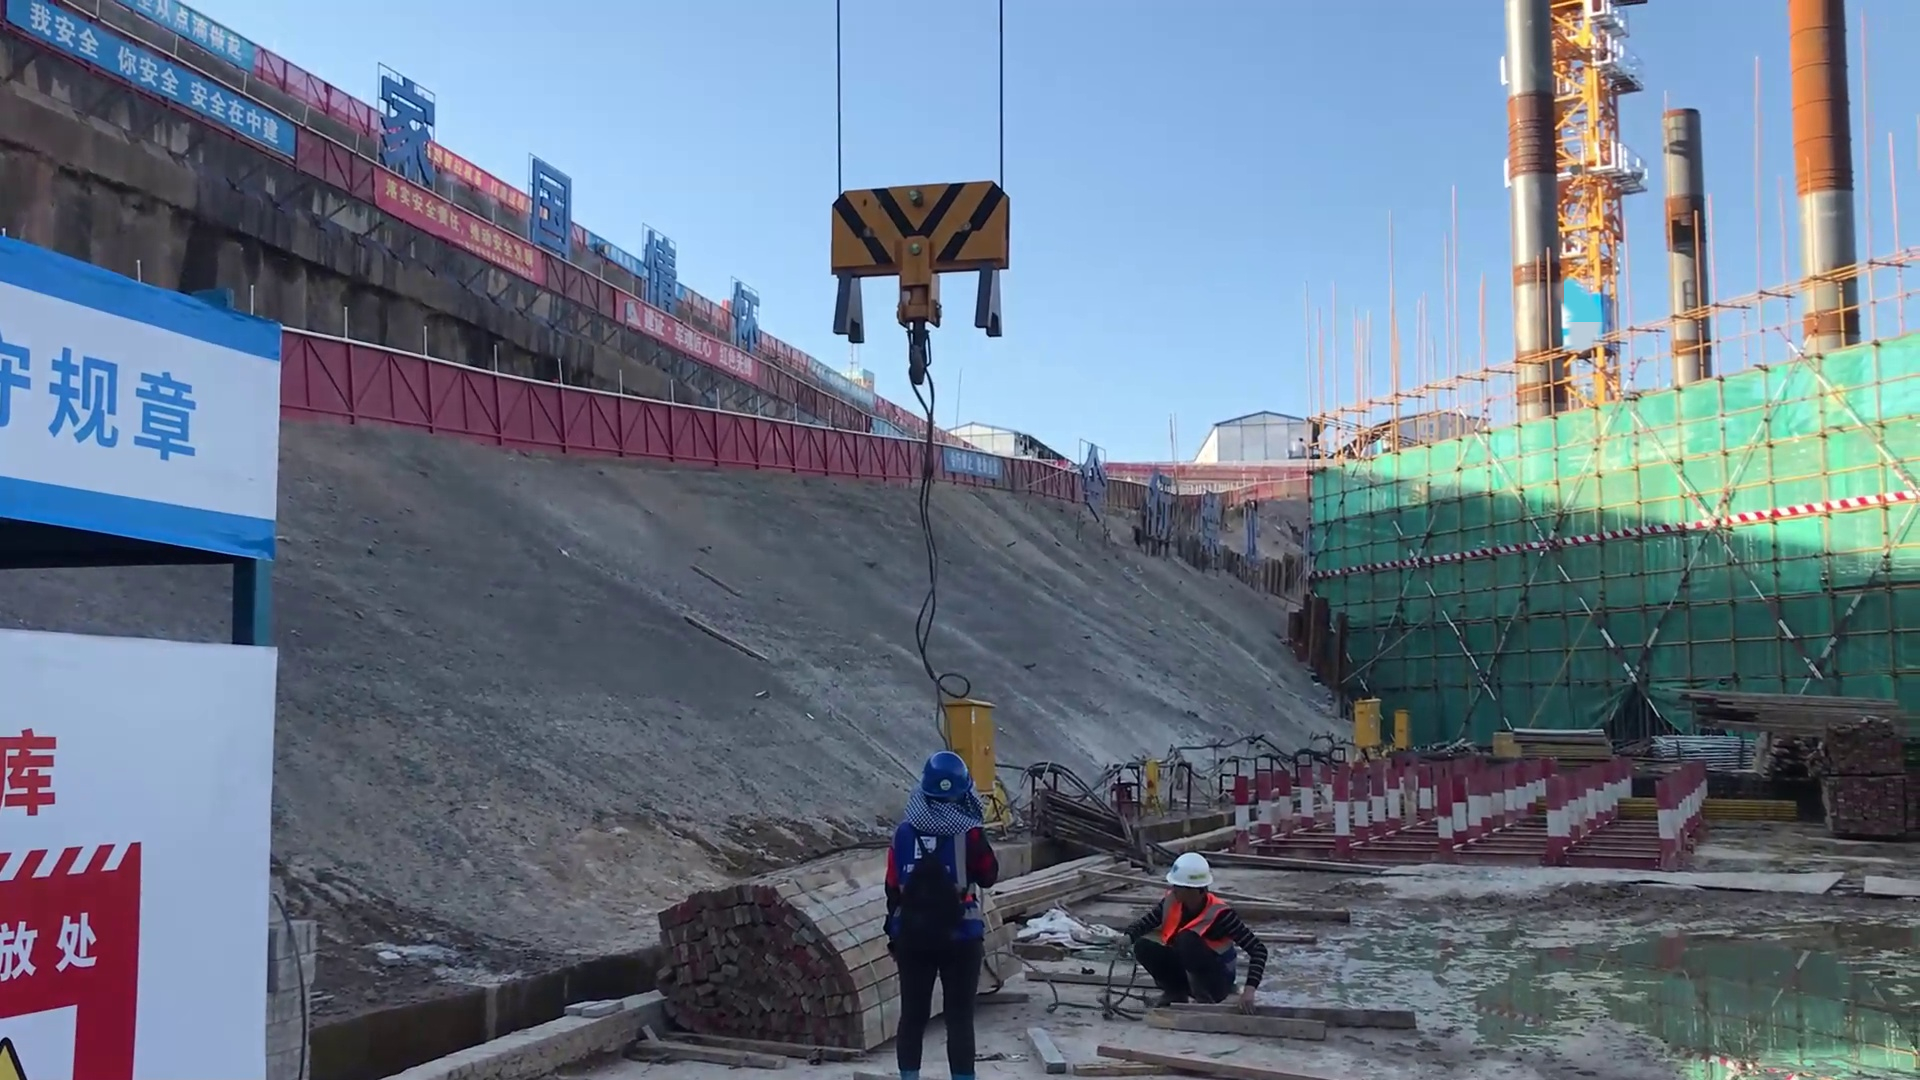ebox: (930, 694, 1019, 804), (1349, 698, 1380, 750), (1388, 709, 1411, 749)
fence: (292, 339, 732, 461), (732, 419, 1018, 482)
helmet: (1154, 843, 1219, 890), (914, 750, 973, 799)
hook: (822, 168, 1017, 350)
person: (860, 750, 992, 1080), (1109, 845, 1274, 1014)
slogan: (1, 295, 229, 523), (340, 171, 599, 372), (21, 8, 296, 170)
vest: (1149, 900, 1234, 964)
wood: (655, 864, 866, 1057), (1652, 679, 1907, 749)
